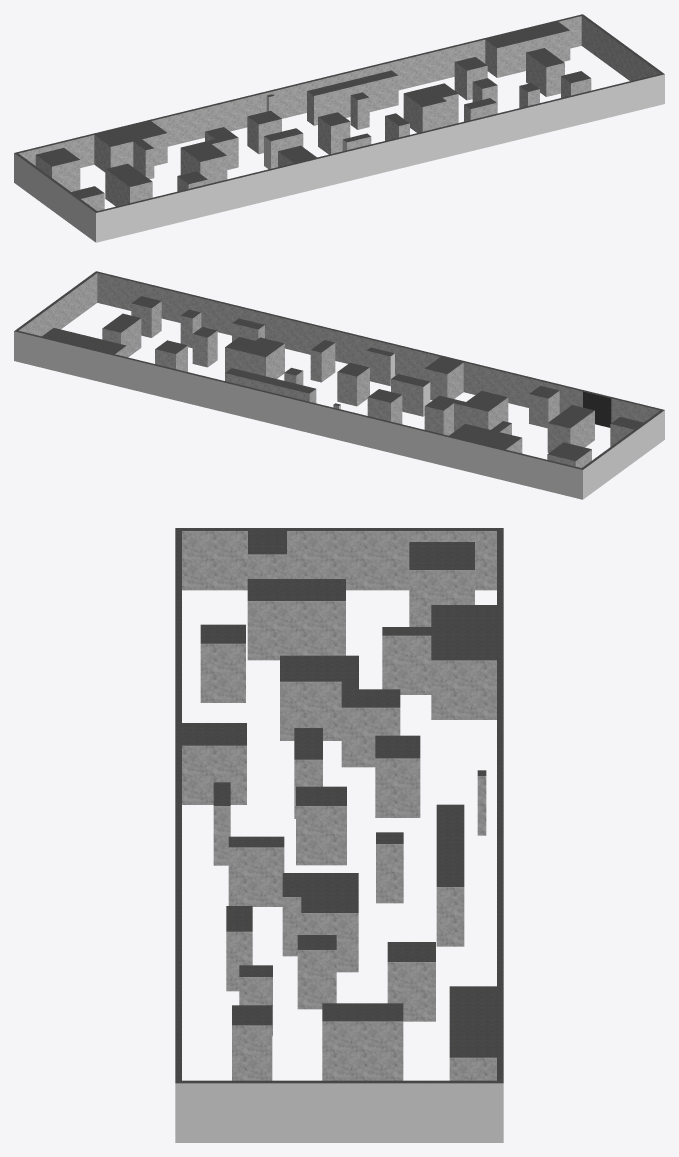
Rendered from iros2017_corridor.dae.
The picture shows the model from 3 angles, top to bottom: view 1: azimuth 30°, elevation 25°; view 2: azimuth 150°, elevation 25°; view 3: azimuth 270°, elevation 25°; orthographic projection. The views are drawn at different scales.
Visible parts, largest first — view 1: SketchUp (×24); view 2: SketchUp (×27); view 3: SketchUp (×32).
Boxes of the visible parts, x1=… form: SketchUp (×24): x1=14, y1=14, x2=664, y2=242; SketchUp (×27): x1=14, y1=271, x2=664, y2=499; SketchUp (×32): x1=175, y1=528, x2=503, y2=1142.
Size of the model in its own units: 1575 by 394 by 78.74.
3 materials, 2 textured.
